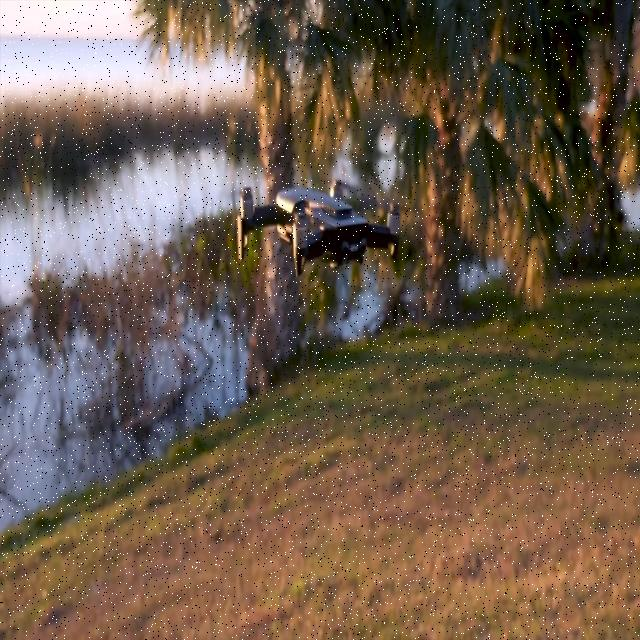UAV: (232, 178, 406, 278)
